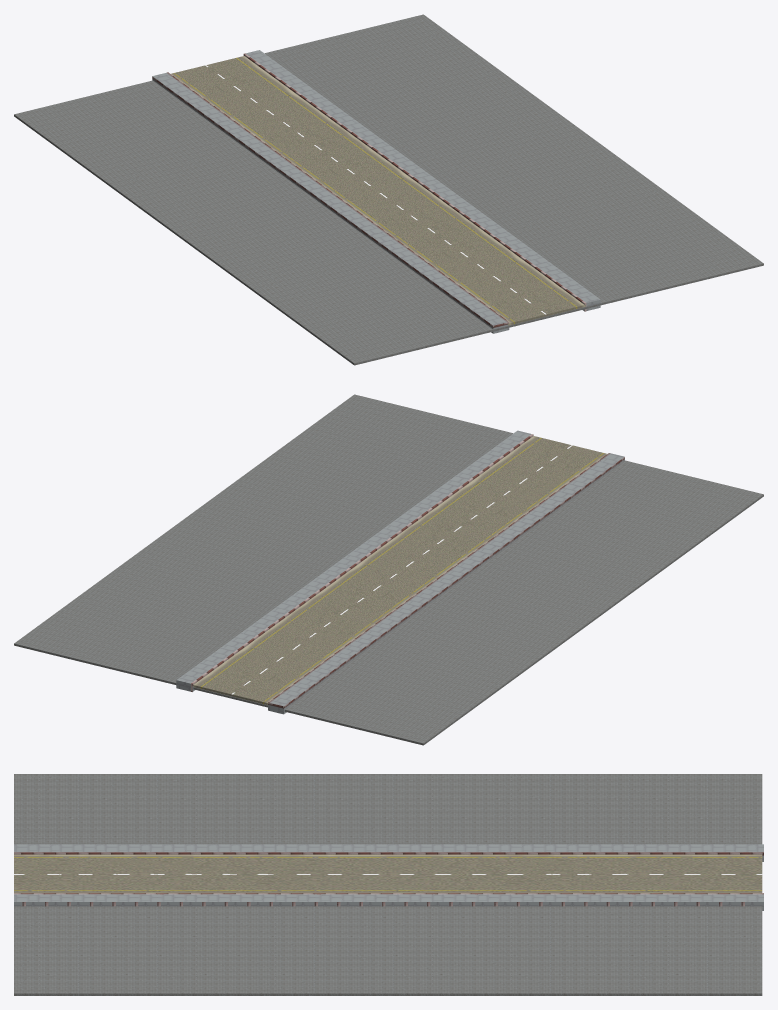
File: Taxi_brush.glb
3 views of the same model, one above another, from view 1: azimuth 30°, elevation 25°; view 2: azimuth 150°, elevation 25°; view 3: azimuth 270°, elevation 25° (orthographic). The views are drawn at different scales.
Visible parts, largest first — view 1: Taxi; view 2: Taxi; view 3: Taxi.
Boxes of the visible parts, x1=… form: Taxi: x1=14, y1=14, x2=763, y2=365; Taxi: x1=14, y1=394, x2=763, y2=745; Taxi: x1=14, y1=774, x2=763, y2=995.
Bounding box in the file's own units: 2962 × 56 × 4272.
3 materials, 3 textured.
